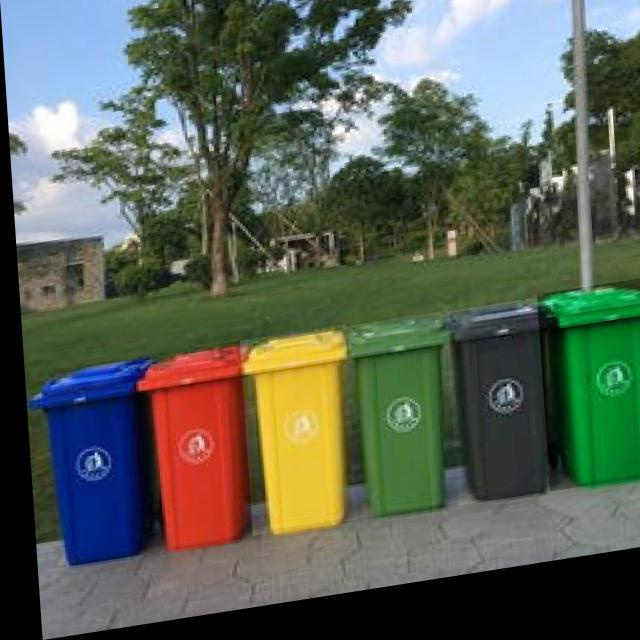garbage_bin: (20, 359, 155, 571), (127, 346, 256, 561), (440, 312, 555, 520), (235, 335, 350, 542), (532, 296, 640, 508), (340, 325, 450, 529)
